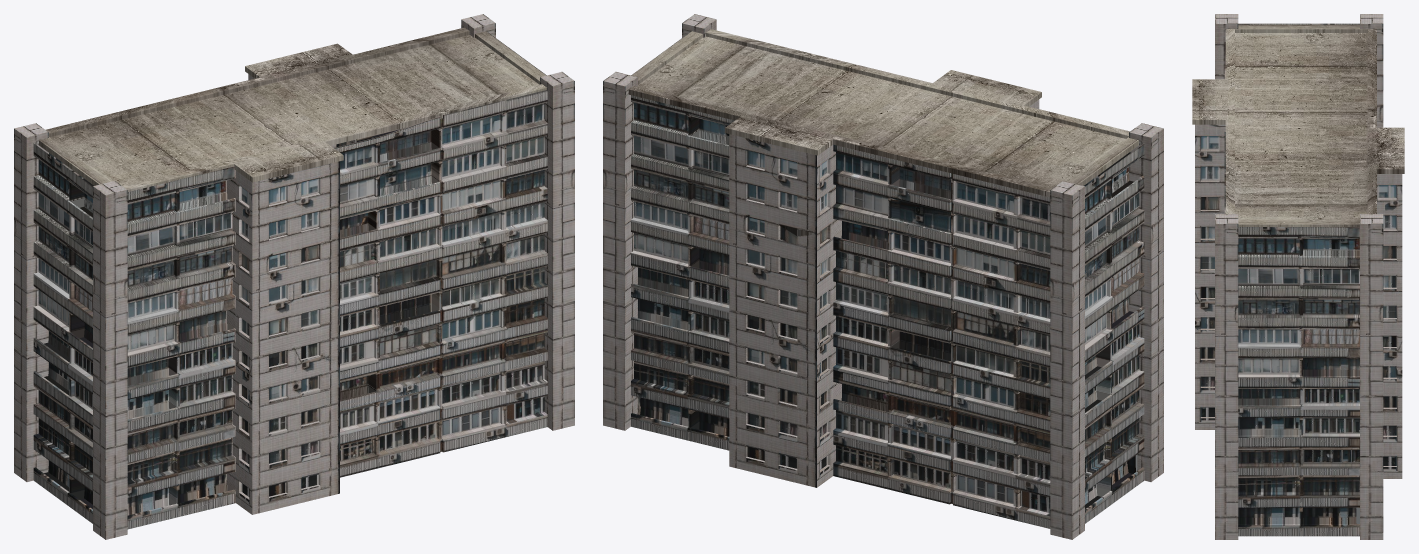
Rendered from apartment_long.glb.
3 views of the same model, side by side, from view 1: azimuth 30°, elevation 25°; view 2: azimuth 150°, elevation 25°; view 3: azimuth 270°, elevation 25° (orthographic). The views are drawn at different scales.
Visible parts, largest first — view 1: apartment_long; view 2: apartment_long; view 3: apartment_long.
Part boxes in pixels (bbox=[...]): apartment_long: bbox=[14, 14, 574, 539]; apartment_long: bbox=[603, 14, 1163, 539]; apartment_long: bbox=[1192, 14, 1404, 539].
Bounding box in the file's own units: 35.35 × 24.8 × 15.12.
3 materials, 3 textured.
